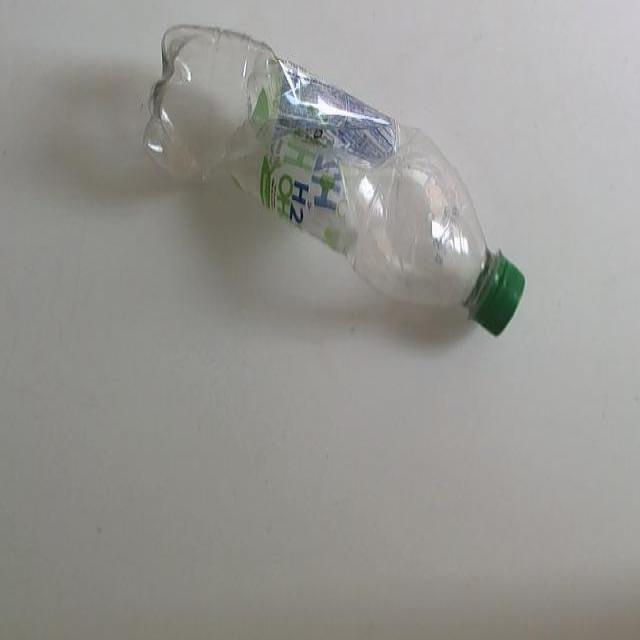defect: (140, 19, 528, 342)
